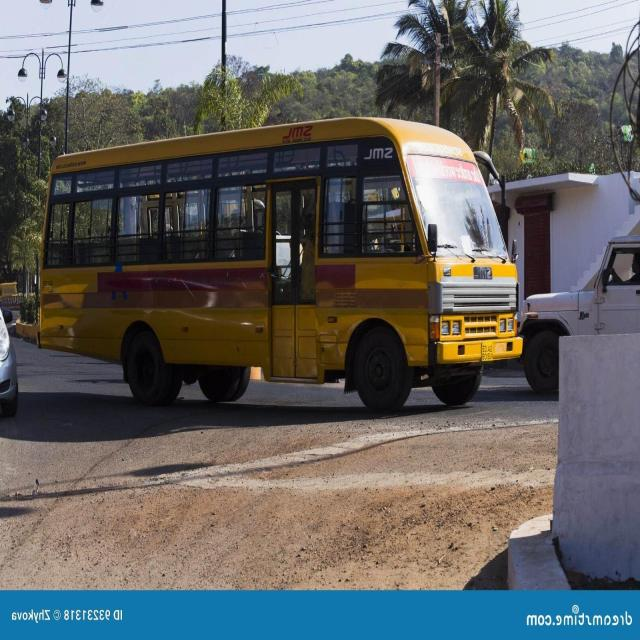bus: (38, 118, 521, 411)
